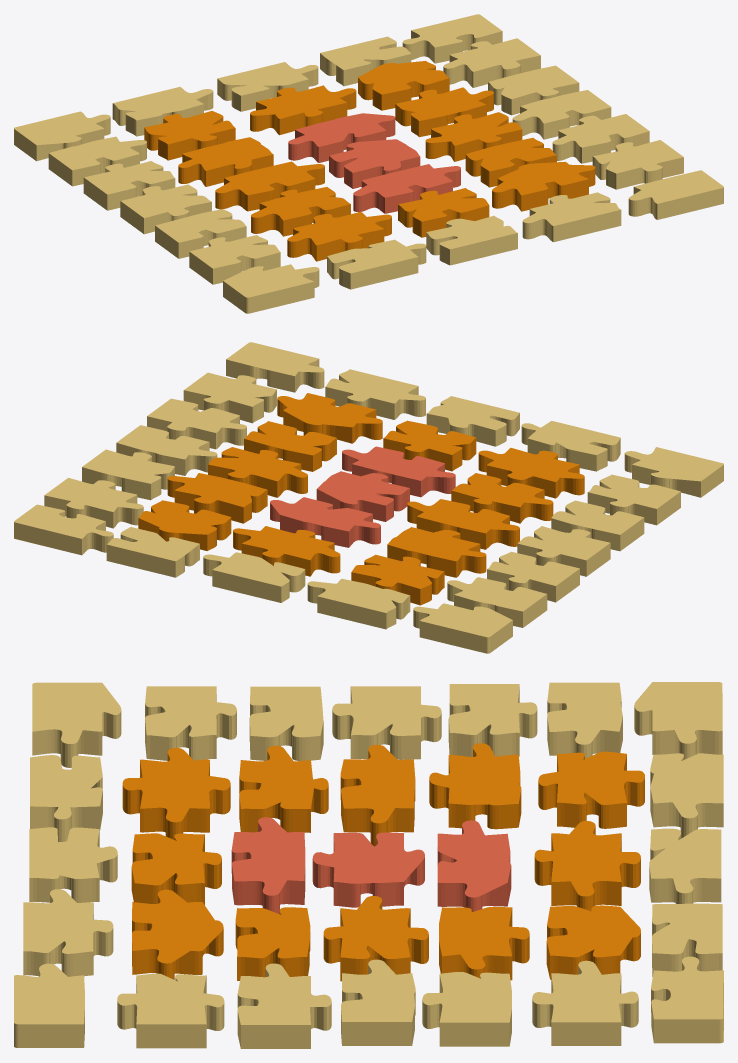
Rendered from colored_puzzle.fbx.
3 renders of one model, top to bottom at view 1: azimuth 30°, elevation 25°; view 2: azimuth 150°, elevation 25°; view 3: azimuth 270°, elevation 25°, orthographic. The views are drawn at different scales.
Parts seen in each view (by area): view 1: 23, 20, 22, 9, 1, 8, 11, 29, 19, 17, 15, 30 (+23 smaller); view 2: 7, 14, 23, 19, 21, 9, 20, 11, 1, 35, 26, 17 (+23 smaller); view 3: 9, 20, 34, 30, 18, 13, 31, 4, 23, 1, 12, 33 (+23 smaller).
Boxes of the visible parts, <box> form: 23: <box>492,161,595,211</box>; 20: <box>250,85,356,135</box>; 22: <box>522,192,621,242</box>; 9: <box>287,211,391,261</box>; 1: <box>223,264,319,313</box>; 8: <box>327,239,426,289</box>; 11: <box>215,161,324,211</box>; 29: <box>628,170,723,219</box>; 19: <box>288,113,395,162</box>; 17: <box>353,164,460,213</box>; 15: <box>426,215,517,265</box>; 30: <box>592,140,683,189</box>; 7: <box>413,603,512,653</box>; 14: <box>307,578,410,629</box>; 23: <box>277,393,382,443</box>; 19: <box>270,497,380,547</box>; 21: <box>203,552,305,602</box>; 9: <box>478,448,584,498</box>; 20: <box>233,526,340,576</box>; 11: <box>407,499,519,549</box>; 1: <box>624,447,723,497</box>; 35: <box>14,504,113,555</box>; 26: <box>167,473,267,523</box>; 17: <box>342,446,455,497</box>; 9: <box>122,748,230,839</box>; 20: <box>534,821,640,910</box>; 34: <box>532,960,638,1045</box>; 30: <box>117,973,224,1048</box>; 18: <box>312,832,424,907</box>; 13: <box>538,751,644,828</box>; 31: <box>237,963,331,1048</box>; 4: <box>332,686,441,759</box>; 23: <box>132,889,223,979</box>; 1: <box>32,682,121,767</box>; 12: <box>429,743,521,829</box>; 33: <box>422,972,511,1046</box>.
Size of the model in its own units: 88.73 by 3.34 by 77.61.
